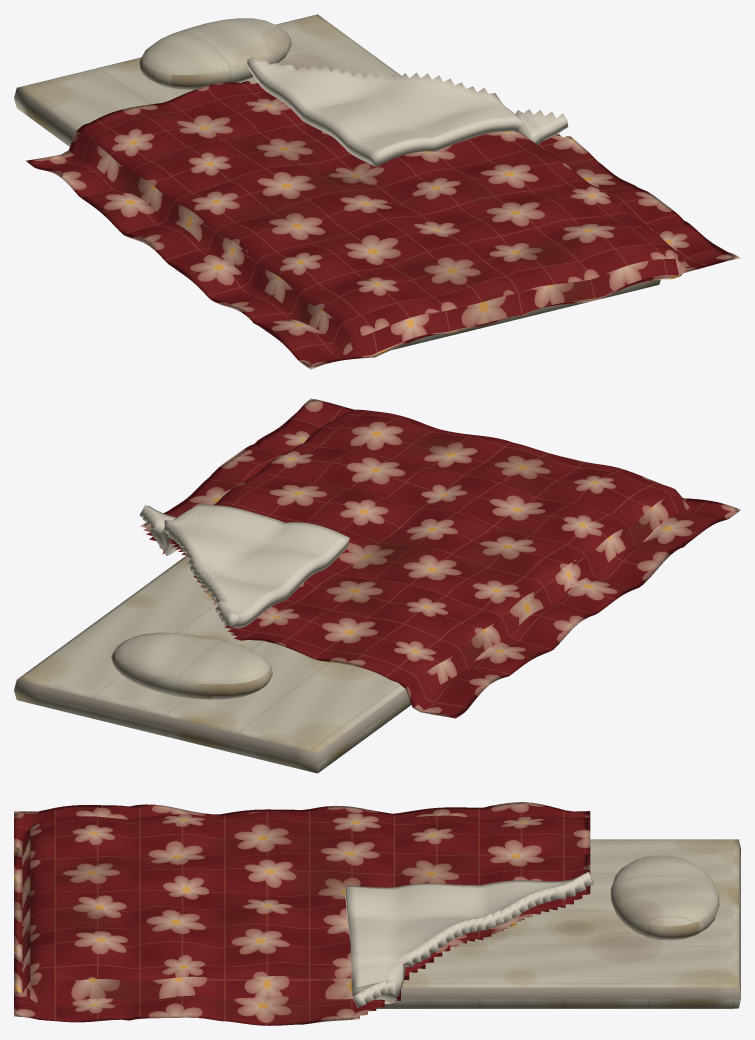
File: FutonSet.gltf
3 renders of one model, top to bottom at view 1: azimuth 30°, elevation 25°; view 2: azimuth 150°, elevation 25°; view 3: azimuth 270°, elevation 25°, orthographic.
Parts seen in each view (by area): view 1: A_FutonSet; view 2: A_FutonSet; view 3: A_FutonSet.
Part boxes in pixels (bbox=[...]): A_FutonSet: bbox=[14, 14, 740, 369]; A_FutonSet: bbox=[14, 398, 740, 773]; A_FutonSet: bbox=[14, 802, 740, 1025].
Bounding box in the file's own units: 1.48 × 0.2399 × 2.14.
Materials: 5 (3 with a texture image).
